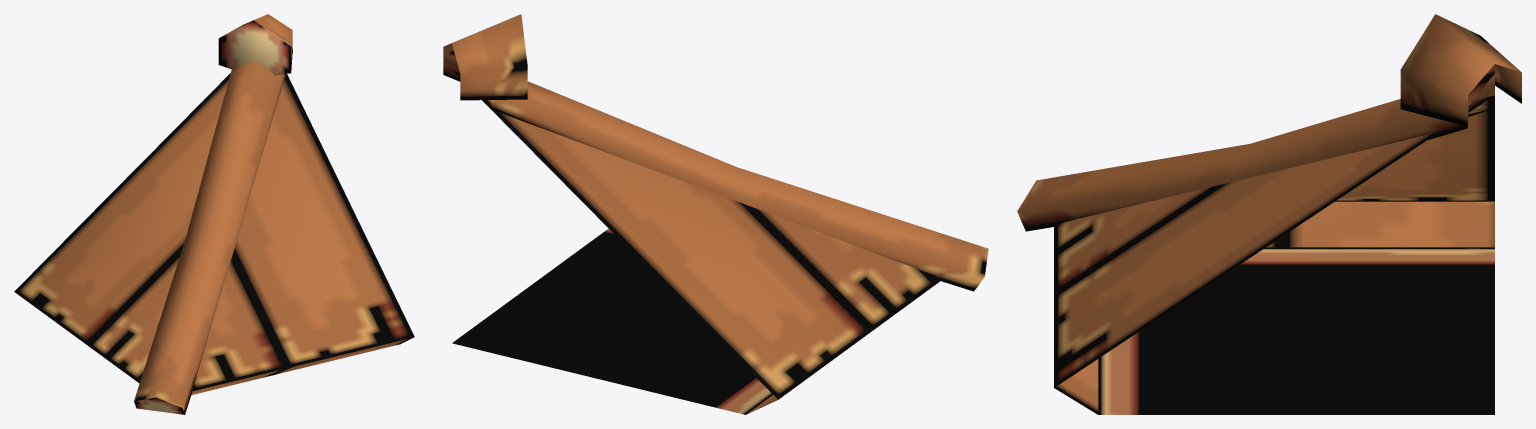
Rendered from arch_roof_cornerHalf_wood.FBX.
The picture shows the model from 3 angles, left to right: view 1: azimuth 30°, elevation 25°; view 2: azimuth 150°, elevation 25°; view 3: azimuth 270°, elevation 25°; orthographic projection. The views are drawn at different scales.
Parts seen in each view (by area): view 1: arch_roof_cornerHalf_wood; view 2: arch_roof_cornerHalf_wood; view 3: arch_roof_cornerHalf_wood.
Part boxes in pixels (x1=…): arch_roof_cornerHalf_wood: x1=14, y1=14, x2=414, y2=414; arch_roof_cornerHalf_wood: x1=443, y1=14, x2=988, y2=414; arch_roof_cornerHalf_wood: x1=1017, y1=14, x2=1521, y2=414.
Size of the model in its own units: 2.86 by 2.35 by 2.86.
1 material, 1 textured.
